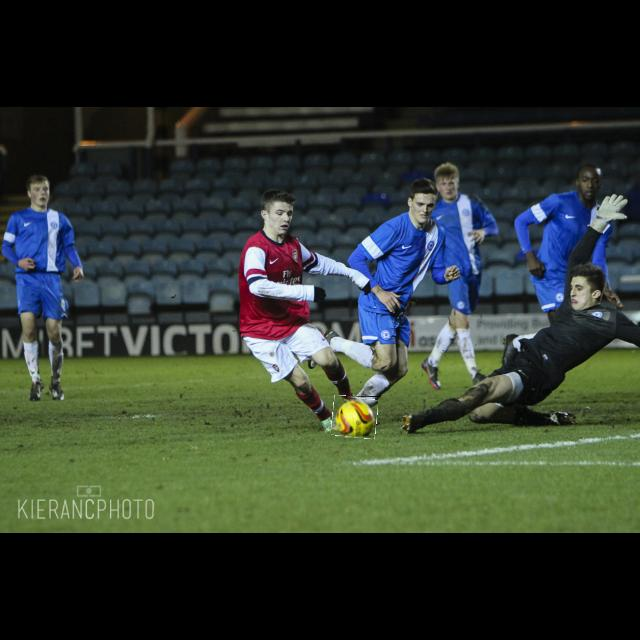Football: (332, 396, 378, 438)
